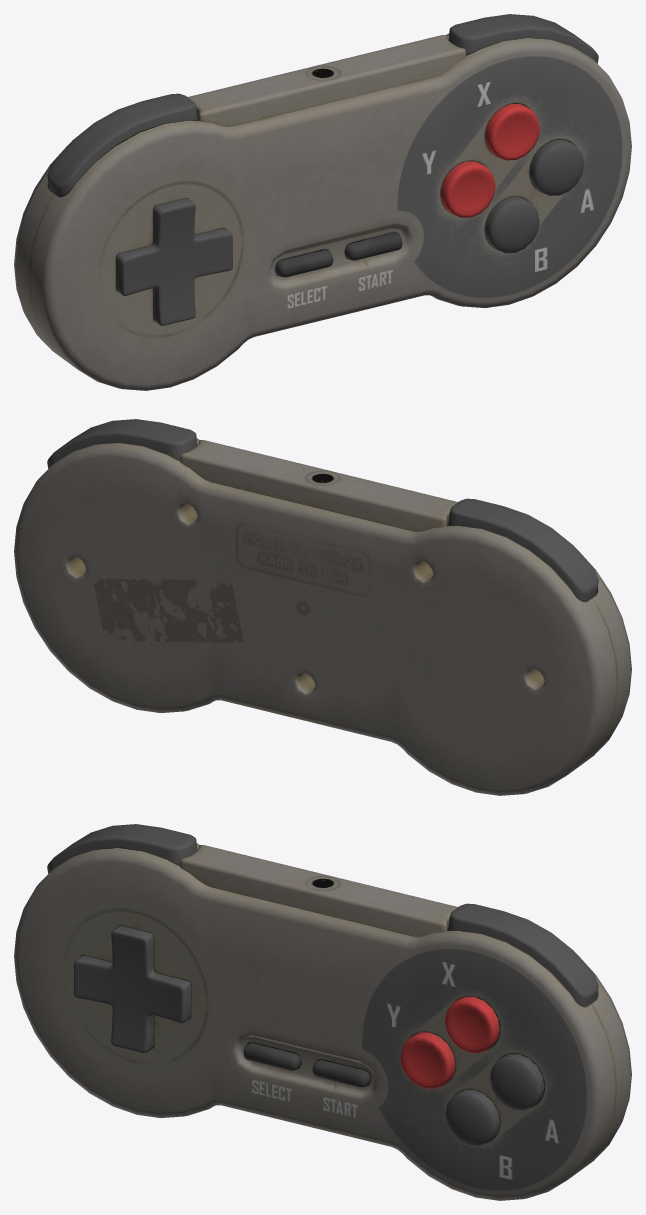
The model's file is gamepad_game.fbx.
3 views of the same model, one above another, from view 1: azimuth 30°, elevation 25°; view 2: azimuth 150°, elevation 25°; view 3: azimuth 330°, elevation 25° (orthographic).
Visible parts, largest first — view 1: gamepad; view 2: gamepad; view 3: gamepad.
Part boxes in pixels (x1,y1,x2,y2): gamepad: (14, 14, 631, 390); gamepad: (14, 419, 631, 795); gamepad: (14, 824, 631, 1200).
Size of the model in its own units: 80 by 35.11 by 10.18.
1 material, 1 textured.
